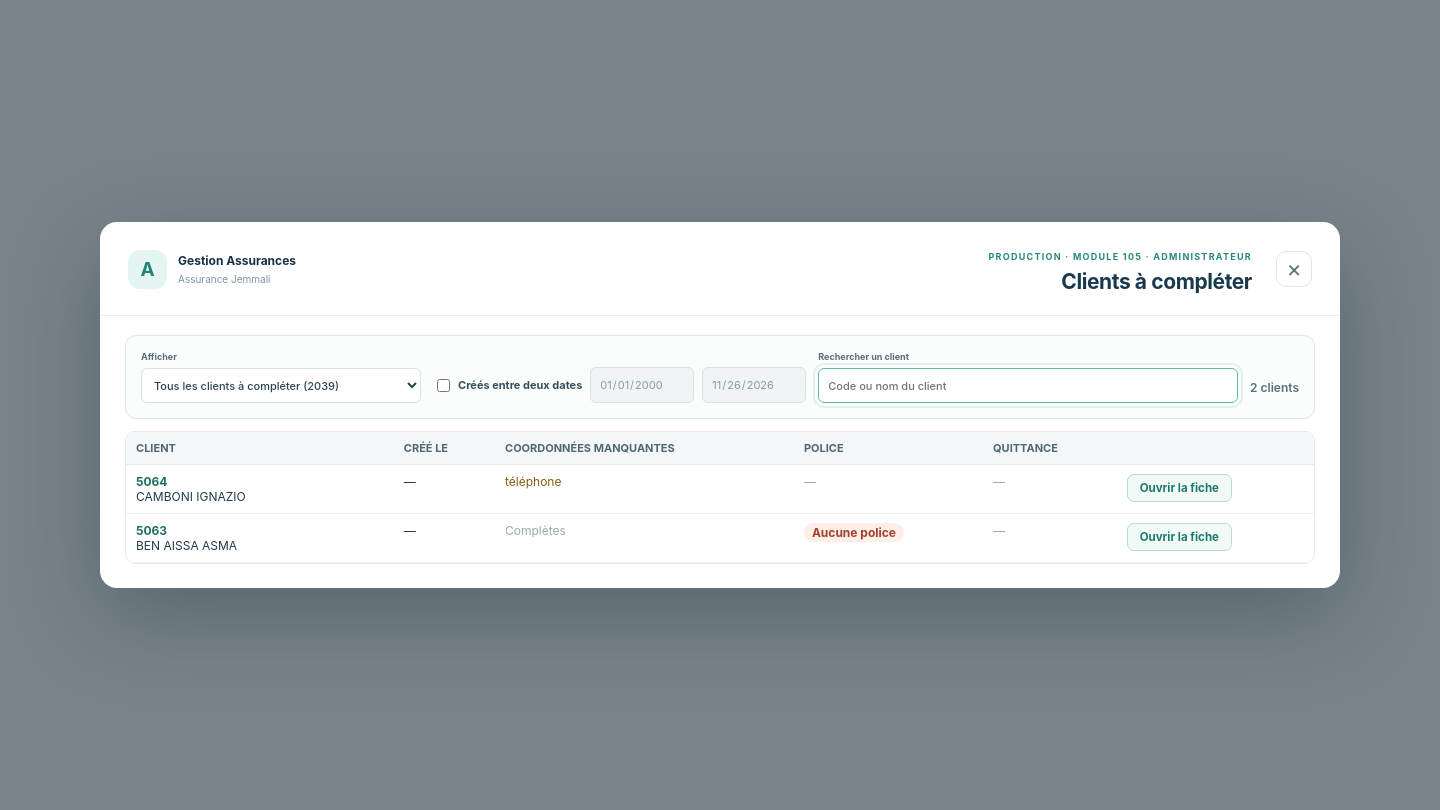
Test: counts the clients with missing coordonnées, without police, without quittance, and their total; filters on a kind
Expected: the text "CAMBONI IGNAZIO" is shown, x1=136 y1=489 x2=246 y2=504
Expected: the text "téléphone" is shown, x1=505 y1=474 x2=561 y2=489
Select "Sans quittance (1210)" in the dropdown labelled "Afficher". click: (281, 386)
box: x1=141 y1=368 x2=421 y2=403
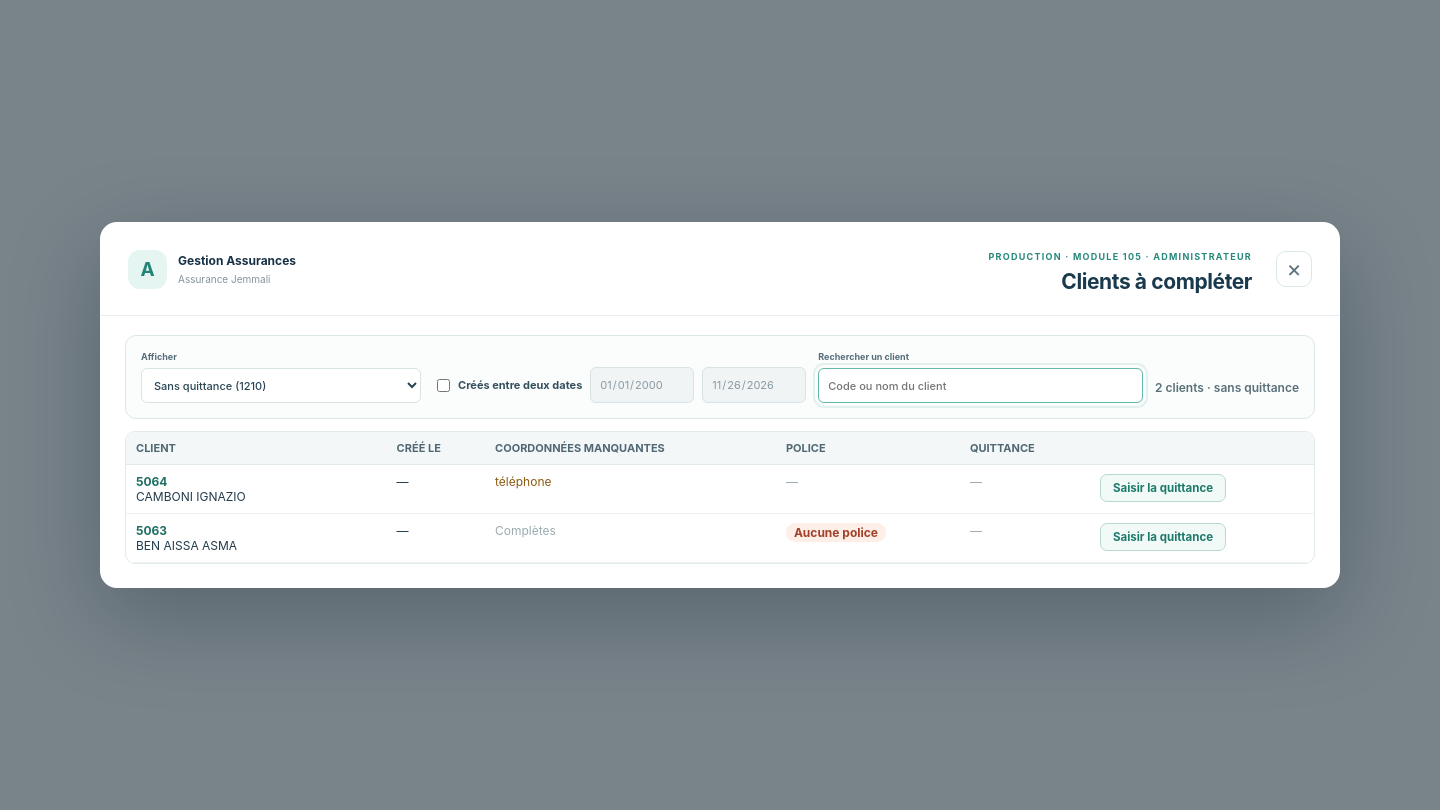
Select "Sans police (893)" in the dropdown labelled "Afficher". click: (281, 386)
box: x1=141 y1=368 x2=421 y2=403
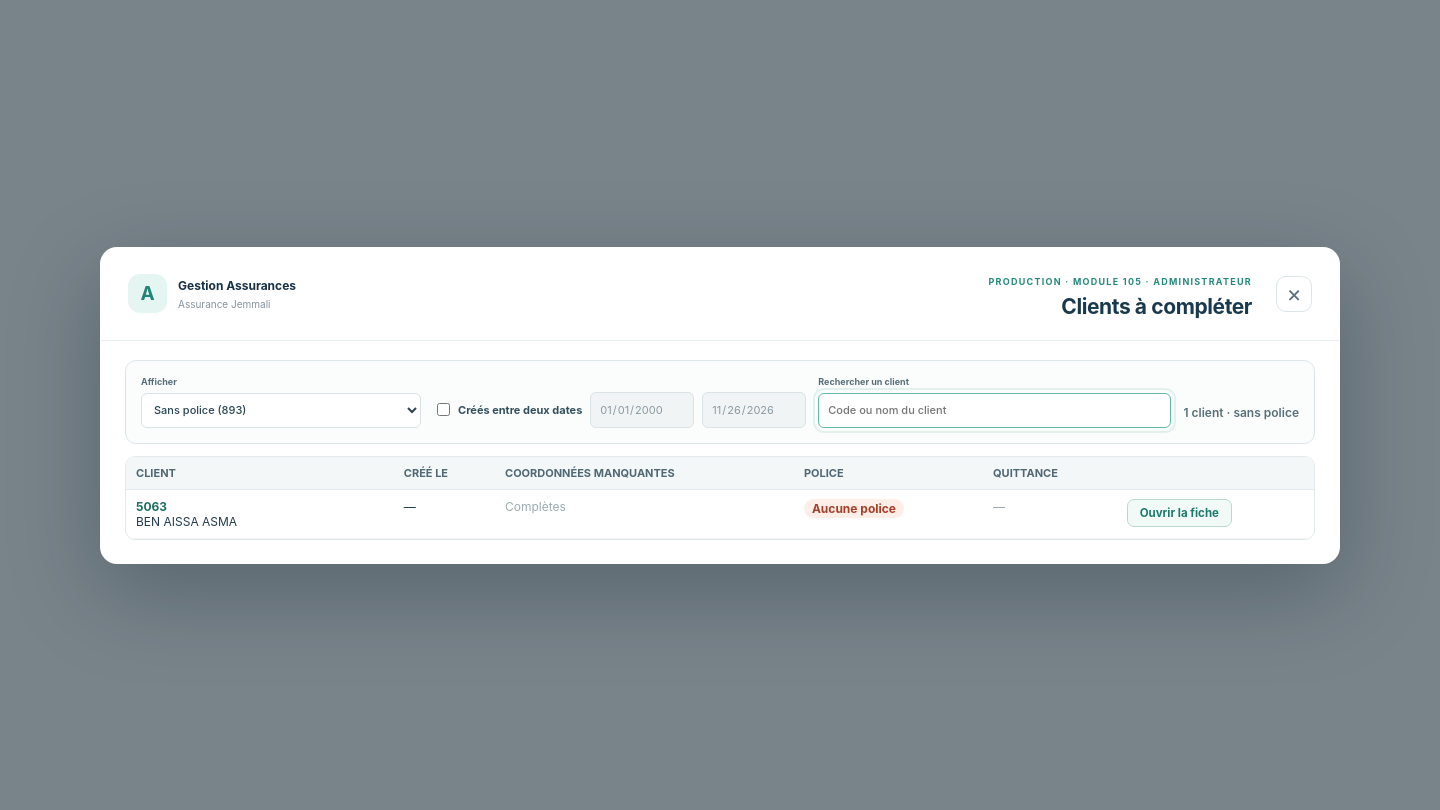
Result: the text "CAMBONI IGNAZIO" is gone
